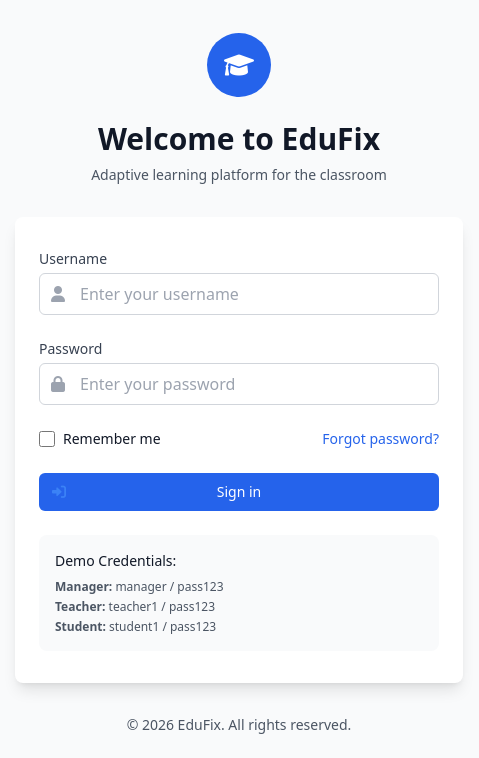
Test: Login Component › Error Handling › shows error for invalid user role
Fill form
Type "student1" into the field labelled "Username" at (239, 294), box x1=39 y1=273 x2=439 y2=315
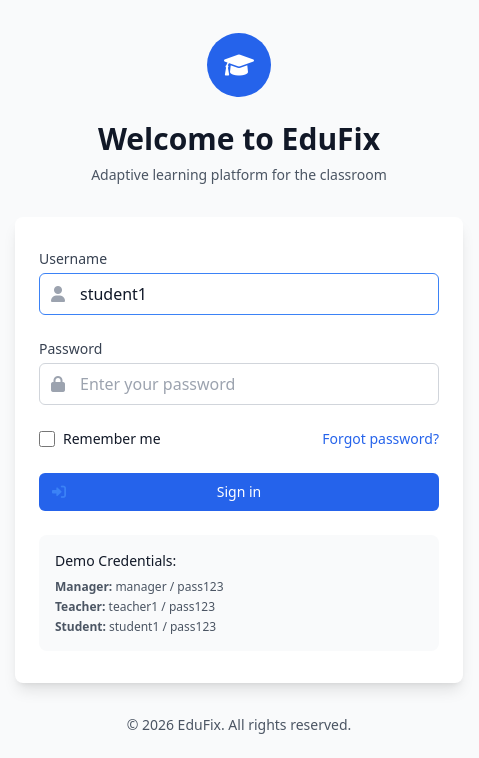
Type "pass123" into the password field labelled "Password" at (239, 384), box x1=39 y1=363 x2=439 y2=405
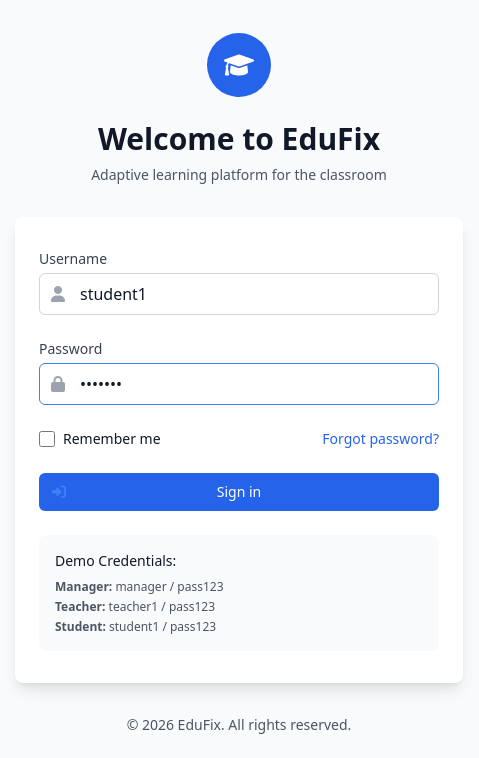
Submit form
Click the button "Sign in" at (239, 492), box x1=39 y1=473 x2=439 y2=511
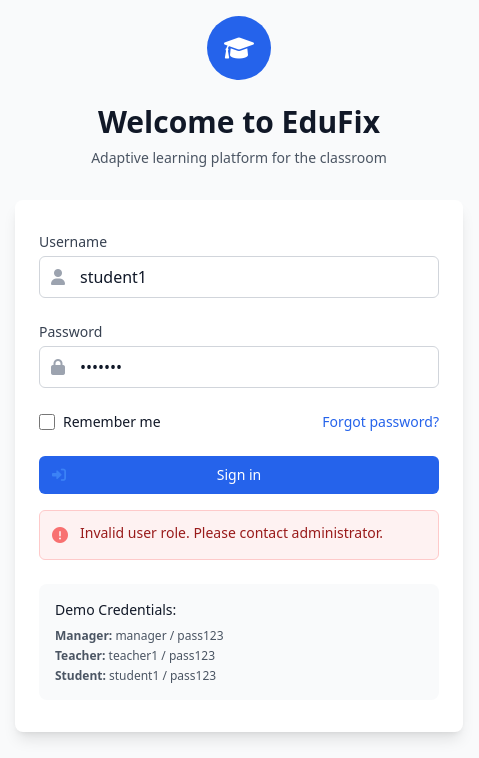
Check: the text "Invalid user role. Please contact administrator." is shown, box x1=80 y1=523 x2=383 y2=543
